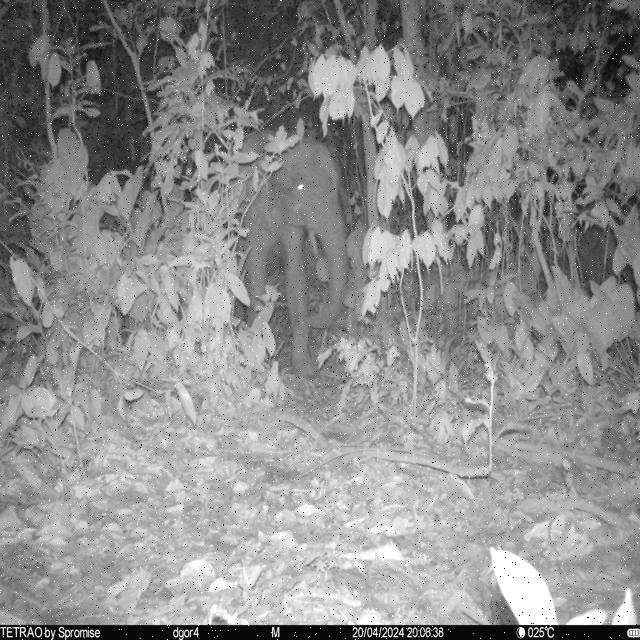elephant: (235, 136, 351, 382)
tusk: (308, 230, 320, 259)
